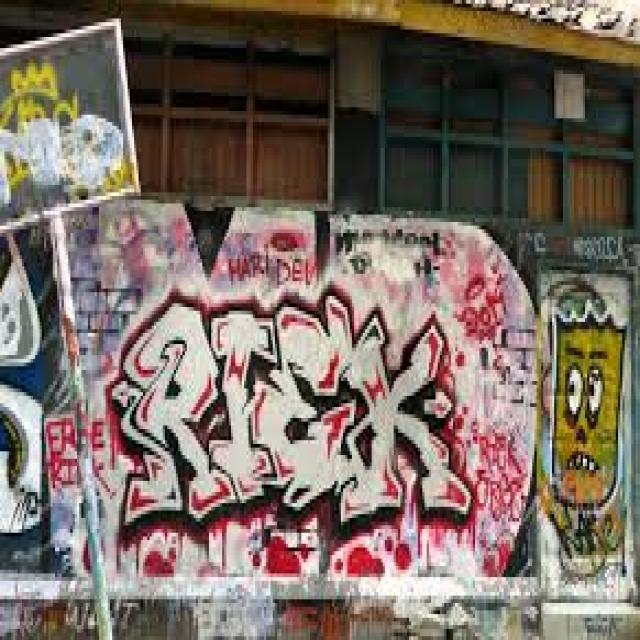-: (108, 290, 473, 536), (540, 300, 631, 550), (2, 62, 128, 195), (0, 237, 46, 537), (337, 224, 444, 284), (470, 420, 526, 522), (46, 413, 104, 493), (334, 537, 412, 578), (460, 269, 504, 341), (251, 534, 310, 574), (138, 544, 179, 580), (226, 250, 268, 284), (275, 252, 304, 288)
